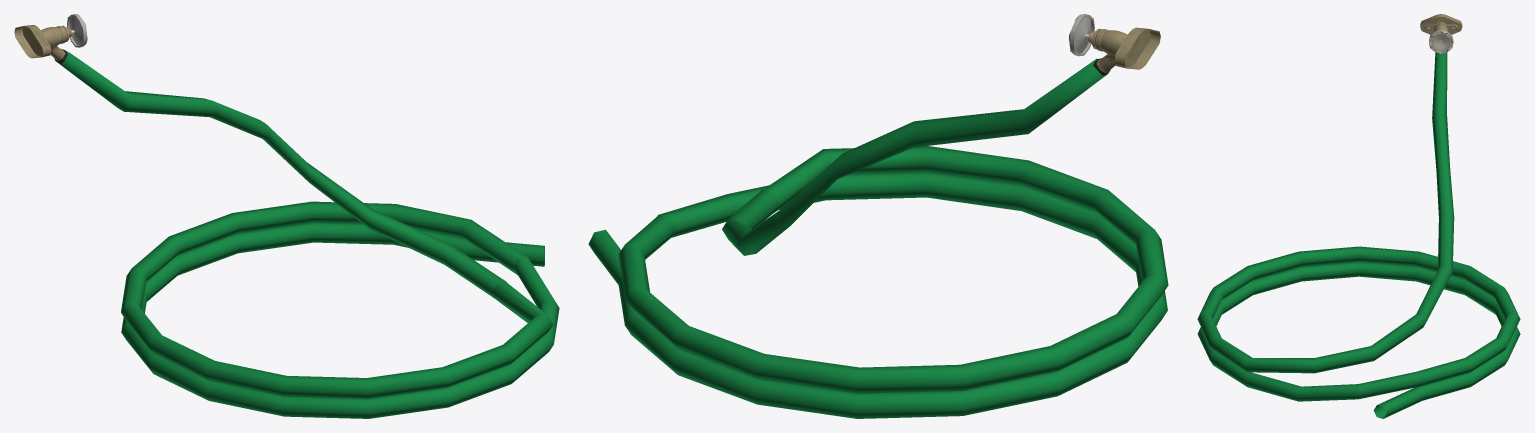
The model's file is HoseModel.gltf.
3 renders of one model, left to right at view 1: azimuth 30°, elevation 25°; view 2: azimuth 150°, elevation 25°; view 3: azimuth 270°, elevation 25°, orthographic. The views are drawn at different scales.
Parts seen in each view (by area): view 1: トーラス.001, トーラス, トーラス.002, トーラス.003, Cube__0; view 2: トーラス.001, トーラス, トーラス.002, トーラス.003, Cube__0; view 3: トーラス.001, トーラス, トーラス.002, トーラス.003, Cube__0.
Part boxes in pixels (x1,y1,x2,y2): トーラス.001: [121, 201, 553, 398]; トーラス: [121, 222, 559, 418]; トーラス.002: [55, 50, 506, 299]; トーラス.003: [123, 223, 558, 418]; Cube__0: [14, 14, 87, 63]; トーラス.001: [618, 146, 1168, 393]; トーラス: [588, 172, 1167, 418]; トーラス.002: [722, 58, 1108, 255]; トーラス.003: [589, 173, 1166, 418]; Cube__0: [1068, 14, 1160, 75]; トーラス.001: [1197, 246, 1520, 398]; トーラス: [1197, 262, 1520, 418]; トーラス.002: [1313, 52, 1454, 373]; トーラス.003: [1199, 262, 1517, 417]; Cube__0: [1420, 14, 1462, 53].
Bounding box in the file's own units: 2.63 × 1.69 × 2.1.
3 materials, 1 textured.
